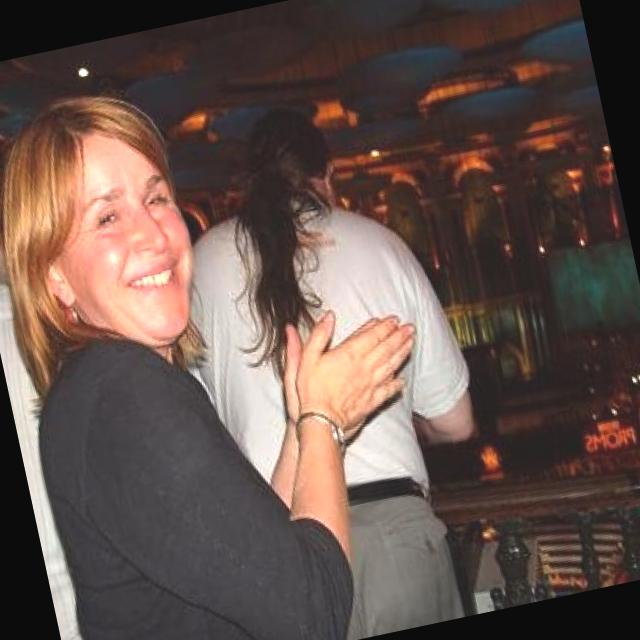no_vest: (29, 303, 372, 640), (160, 165, 443, 356)
